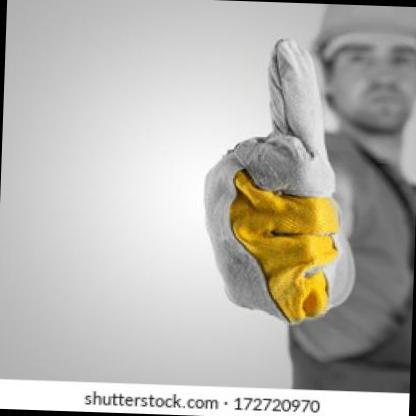Gloves: (198, 38, 364, 324)
